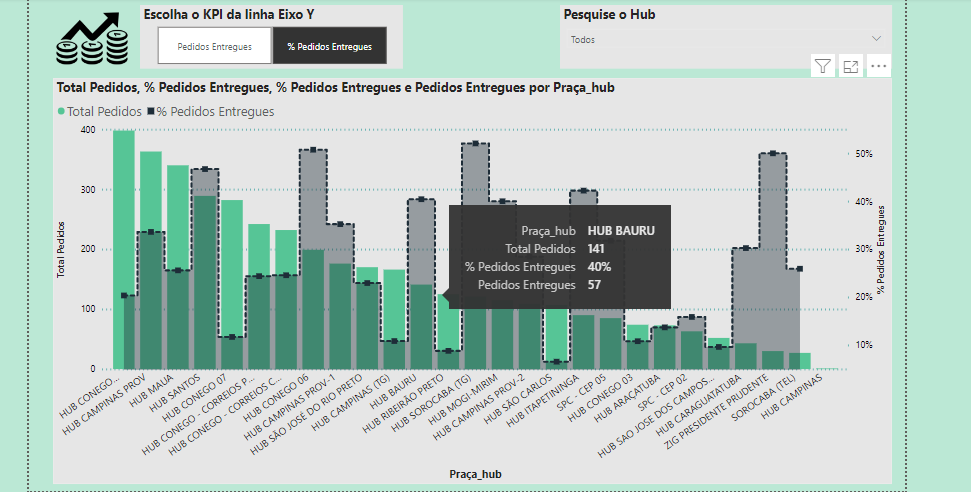

This screenshot's page, from the dashboard's own definition file:
{"tool":"powerbi","page":{"name":"Grafico por HUB","canvas":[1280,720],"ordinal":1},"visuals":[{"type":"slicer","title":"Escolha o KPI da linha Eixo Y","fields":{"Values":["kpis_pedidos_eixo_Y.kpis_pedidos_eixo_Y"]},"box":[162.1,10.2,384.1,93.5],"z":0},{"type":"slicer","title":"Pesquise o Hub","fields":{"Values":["sheet01.Praça_hub"]},"box":[775.5,10.2,484.9,93.5],"z":1000},{"type":"lineClusteredColumnComboChart","fields":{"Y2":["sheet01.% Pedidos Entregues"],"Category":["sheet01.Praça_hub"],"Y":["sheet01.Total Pedidos"]},"box":[35.1,116.8,1225.3,592.9],"z":2000},{"type":"image","box":[35.1,0,113.9,116.8],"z":3000}]}

Visuals, with their boxes on the page's 1280x720 design canvas (x1, y1, x2, y2). These are canvas units, not pixel positions in the 971x492 screenshot, which may show the page scaled, cropped or inside an application window:
"Escolha o KPI da linha Eixo Y" slicer: left=162, top=10, right=546, bottom=104
"Pesquise o Hub" slicer: left=776, top=10, right=1260, bottom=104
lineClusteredColumnComboChart - sheet01.% Pedidos Entregues x sheet01.Praça_hub: left=35, top=117, right=1260, bottom=710
image: left=35, top=0, right=149, bottom=117
